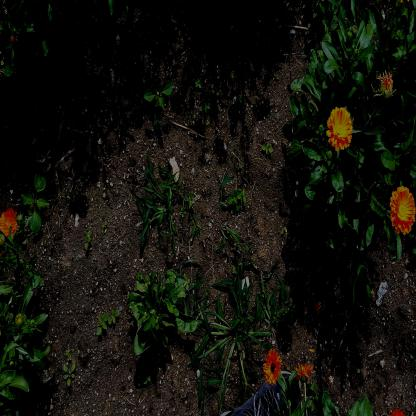marigold: (392, 186, 416, 232), (328, 107, 353, 147), (264, 346, 280, 382), (1, 208, 20, 235)
